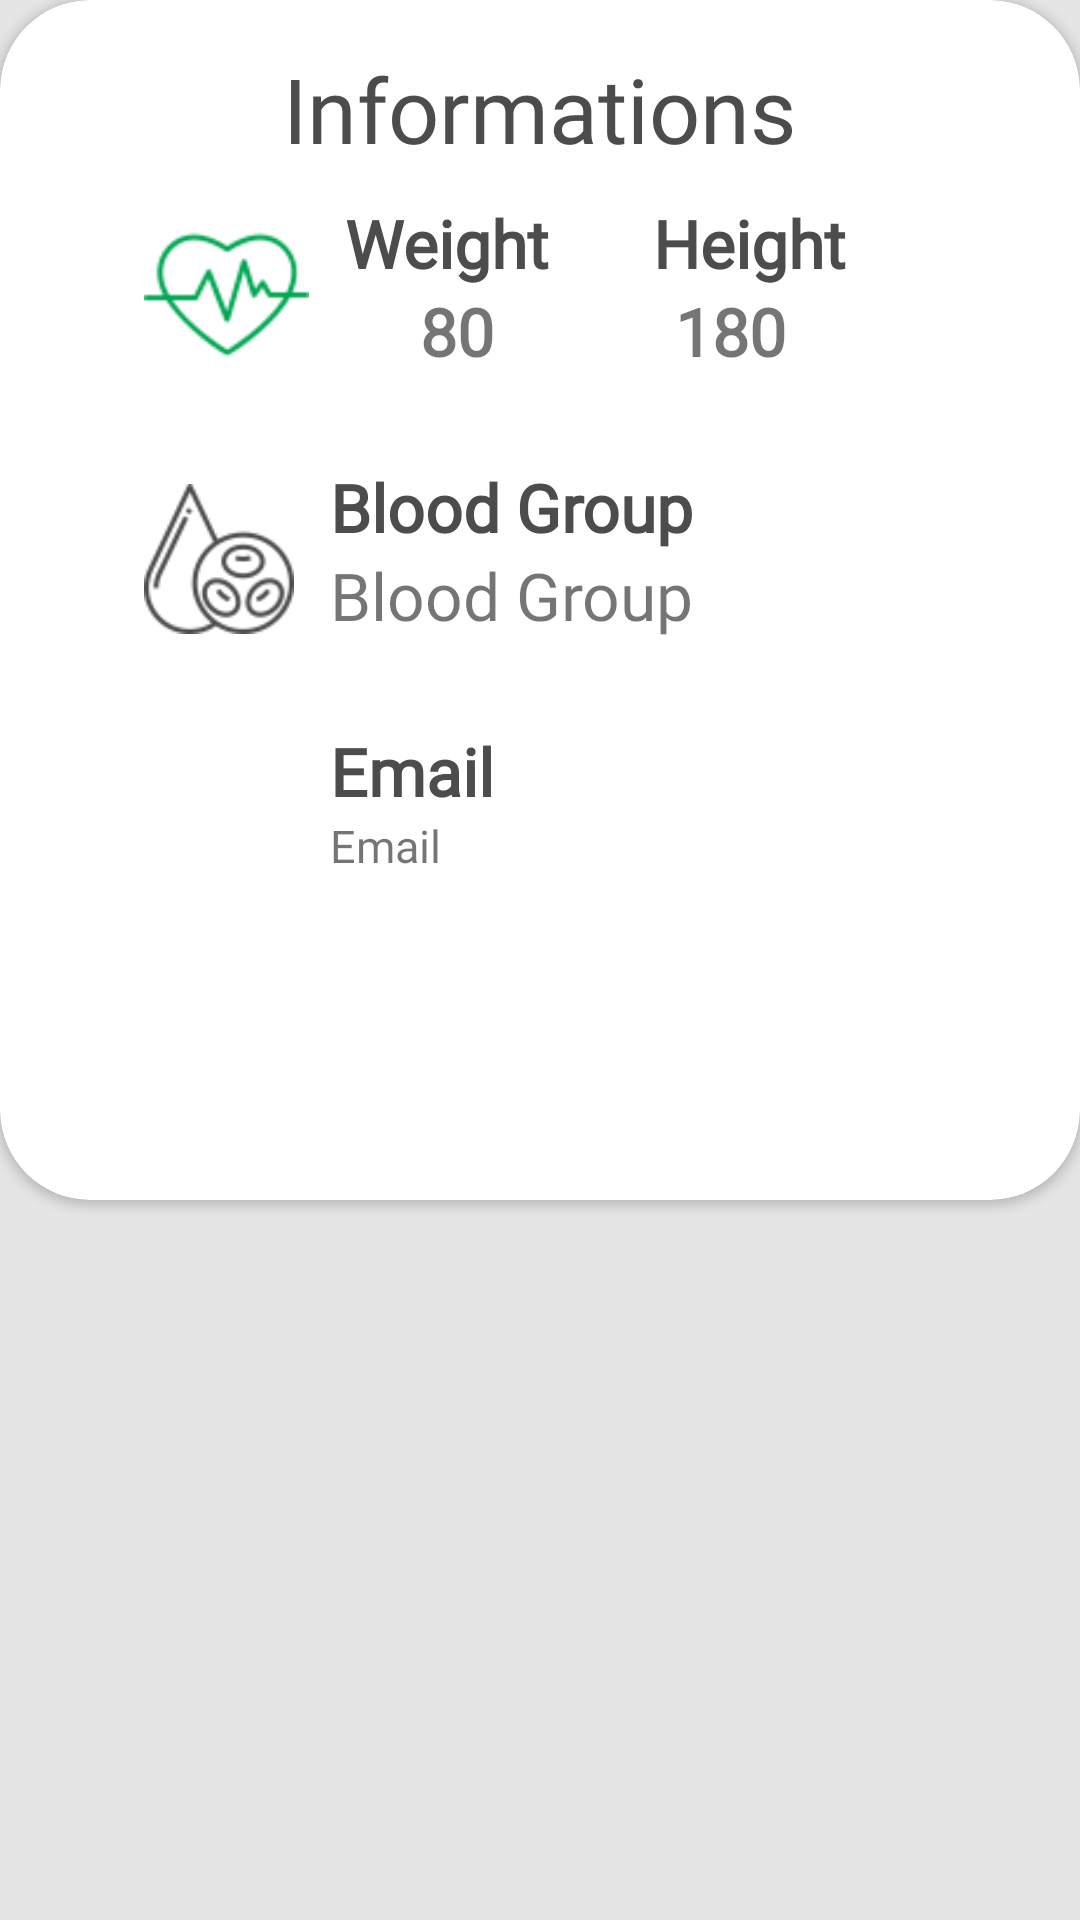

Icon click points for this 1080x1920 phone screenshot, format (x=x, y=y):
heart: (x=226, y=294)
